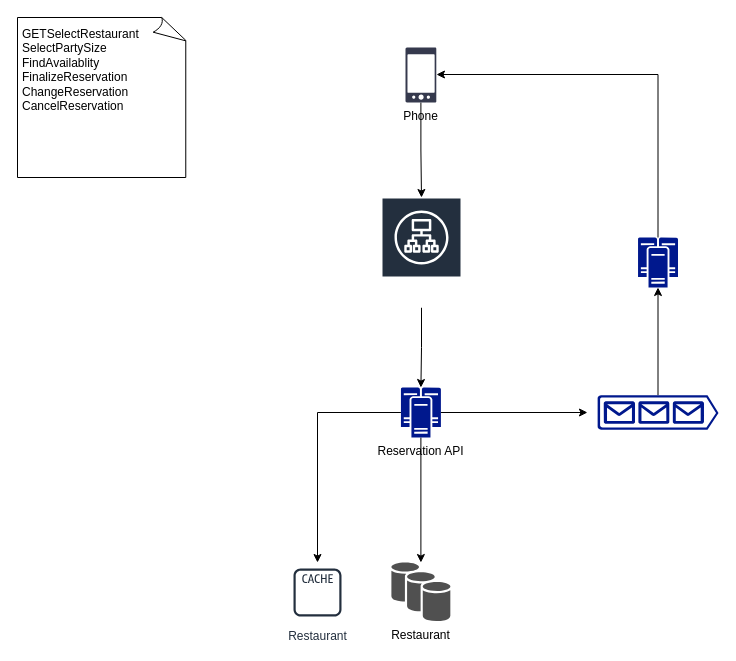
The diagram is 736 pixels wide and 661 high, and some of its shapes have lost their labels. Each missing label, with the centre of its shape:
"confirmed-queue" goes at pixel 657 412.
"Load Balancer" goes at pixel 421 252.
"Server" goes at pixel 658 262.
